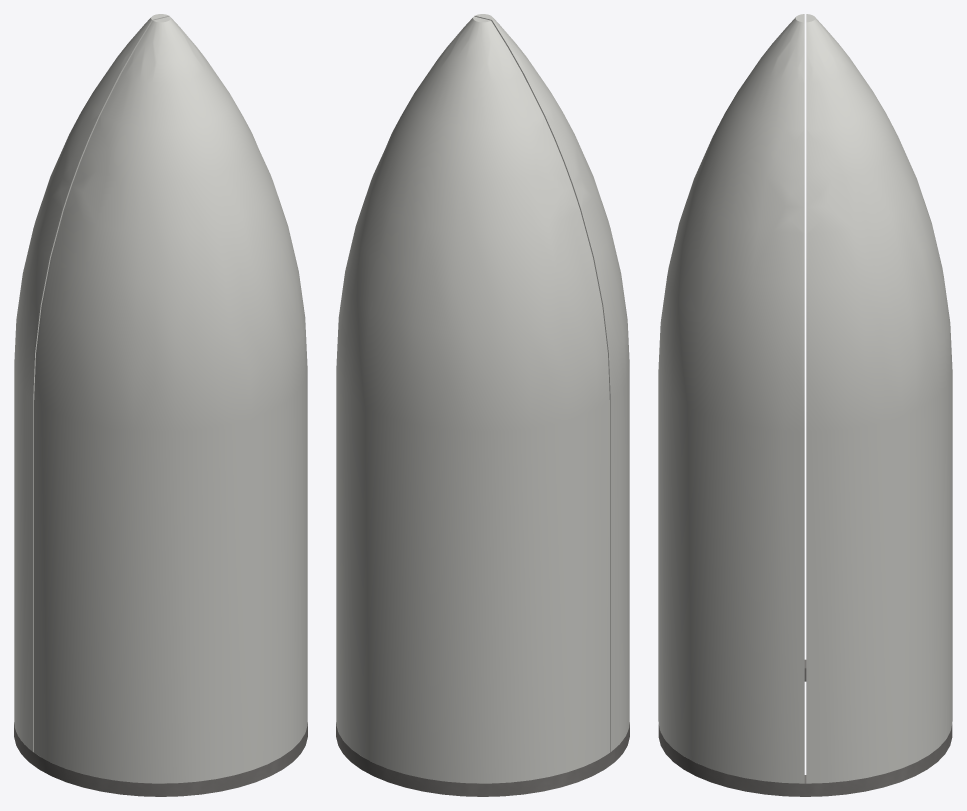
The model's file is stage04_fairing_xl.glb.
3 renders of one model, left to right at view 1: azimuth 30°, elevation 25°; view 2: azimuth 150°, elevation 25°; view 3: azimuth 270°, elevation 25°, orthographic.
Parts seen in each view (by area): view 1: half_b, half_a, base_ring; view 2: half_a, half_b, base_ring; view 3: half_a, half_b, base_ring.
Boxes of the visible parts, x1,y1,x2,y2 form: half_b: (34, 16, 307, 783); half_a: (14, 14, 169, 752); base_ring: (14, 722, 307, 796); half_a: (336, 16, 609, 783); half_b: (474, 14, 629, 752); base_ring: (336, 722, 629, 796); half_a: (806, 14, 952, 783); half_b: (658, 14, 804, 783); base_ring: (658, 659, 952, 796).
Bounding box in the file's own units: 5 × 13.45 × 5.
Materials: 2 (1 with a texture image).
